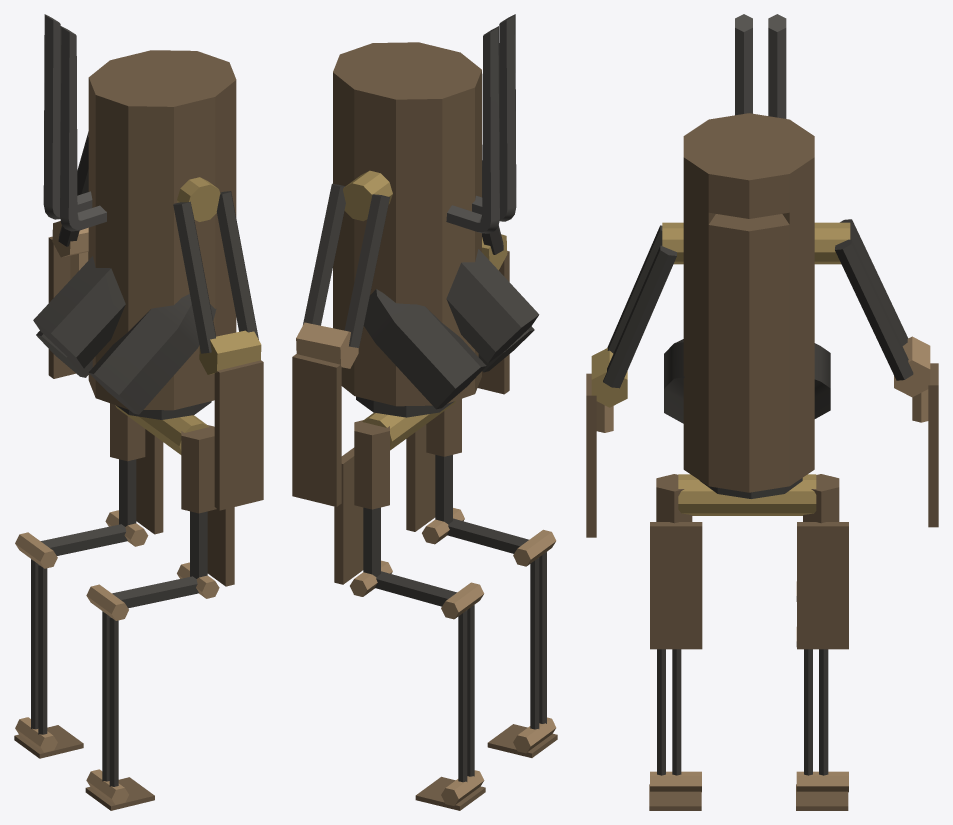
Rendered from Player.fbx.
3 renders of one model, left to right at view 1: azimuth 30°, elevation 25°; view 2: azimuth 150°, elevation 25°; view 3: azimuth 270°, elevation 25°, orthographic. The views are drawn at different scales.
Visible parts, largest first — view 1: pasted__pasted__pCylinder10; view 2: pasted__pasted__pCylinder10; view 3: pasted__pasted__pCylinder10.
Boxes of the visible parts, x1=… form: pasted__pasted__pCylinder10: x1=14, y1=14, x2=263, y2=810; pasted__pasted__pCylinder10: x1=292, y1=14, x2=557, y2=810; pasted__pasted__pCylinder10: x1=586, y1=14, x2=938, y2=810.
Size of the model in its own units: 2.14 by 8.17 by 3.37.
